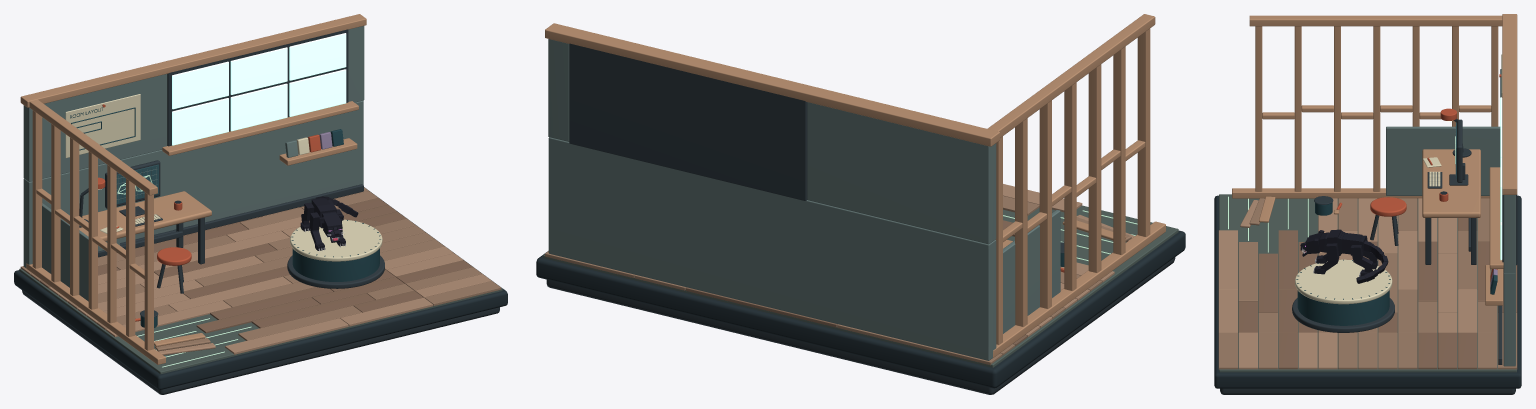
The model's file is workshop.glb.
The picture shows the model from 3 angles, left to right: view 1: azimuth 30°, elevation 25°; view 2: azimuth 150°, elevation 25°; view 3: azimuth 270°, elevation 25°; orthographic projection. The views are drawn at different scales.
Parts seen in each view (by area): view 1: Rear plaster below window, Graphite slab, Rear plaster upper left, Rear top plate, Plywood subfloor, Pinned plan, Recessed plinth, Turntable top, Workbench top, Frosted pane.001, Frosted pane.004, Frosted pane.002 (+52 smaller); view 2: Rear plaster below window, Window reveal, Rear plaster upper left, Graphite slab, Rear top plate, Recessed plinth, Plywood subfloor, Left upper plate, Partly fitted side panel, Exposed timber stud.002, Exposed timber stud, Left sole plate (+8 smaller); view 3: Graphite slab, Plywood subfloor, Partly fitted side panel, Workbench top, Left upper plate, Turntable top, Rear top plate, Recessed plinth, Turntable drum, Left sole plate, Exposed timber stud, Exposed timber stud.001 (+60 smaller).
Boxes of the visible parts, x1=… form: Rear plaster below window: x1=23, y1=100, x2=363, y2=267; Graphite slab: x1=14, y1=187, x2=507, y2=389; Rear plaster upper left: x1=23, y1=74, x2=167, y2=181; Rear top plate: x1=20, y1=14, x2=366, y2=107; Plywood subfloor: x1=19, y1=268, x2=502, y2=374; Pinned plan: x1=65, y1=94, x2=140, y2=158; Recessed plinth: x1=22, y1=290, x2=499, y2=394; Turntable top: x1=290, y1=219, x2=382, y2=261; Workbench top: x1=79, y1=191, x2=211, y2=241; Frosted pane.001: x1=230, y1=83, x2=287, y2=131; Frosted pane.004: x1=230, y1=47, x2=287, y2=94; Frosted pane.002: x1=289, y1=69, x2=346, y2=116; Rear plaster below window: x1=548, y1=137, x2=996, y2=360; Window reveal: x1=569, y1=43, x2=807, y2=200; Rear plaster upper left: x1=807, y1=102, x2=996, y2=244; Graphite slab: x1=536, y1=230, x2=1185, y2=388; Rear top plate: x1=545, y1=23, x2=999, y2=146; Recessed plinth: x1=546, y1=257, x2=1175, y2=394; Plywood subfloor: x1=543, y1=205, x2=1178, y2=367; Left upper plate: x1=987, y1=14, x2=1155, y2=137; Partly fitted side panel: x1=1003, y1=210, x2=1060, y2=333; Exposed timber stud.002: x1=1088, y1=64, x2=1101, y2=272; Exposed timber stud: x1=1137, y1=28, x2=1150, y2=236; Left sole plate: x1=993, y1=221, x2=1165, y2=357; Graphite slab: x1=1214, y1=195, x2=1521, y2=388; Plywood subfloor: x1=1219, y1=194, x2=1516, y2=372; Partly fitted side panel: x1=1386, y1=126, x2=1500, y2=195; Workbench top: x1=1422, y1=149, x2=1480, y2=217; Left upper plate: x1=1249, y1=15, x2=1502, y2=26; Turntable top: x1=1295, y1=259, x2=1392, y2=304; Rear top plate: x1=1502, y1=14, x2=1517, y2=194; Recessed plinth: x1=1220, y1=388, x2=1515, y2=394; Turntable drum: x1=1297, y1=290, x2=1389, y2=325; Left sole plate: x1=1232, y1=188, x2=1489, y2=198; Exposed timber stud: x1=1255, y1=26, x2=1262, y2=191; Exposed timber stud.001: x1=1294, y1=26, x2=1301, y2=191.
Size of the model in its own units: 7.7 by 4.14 by 5.55.
